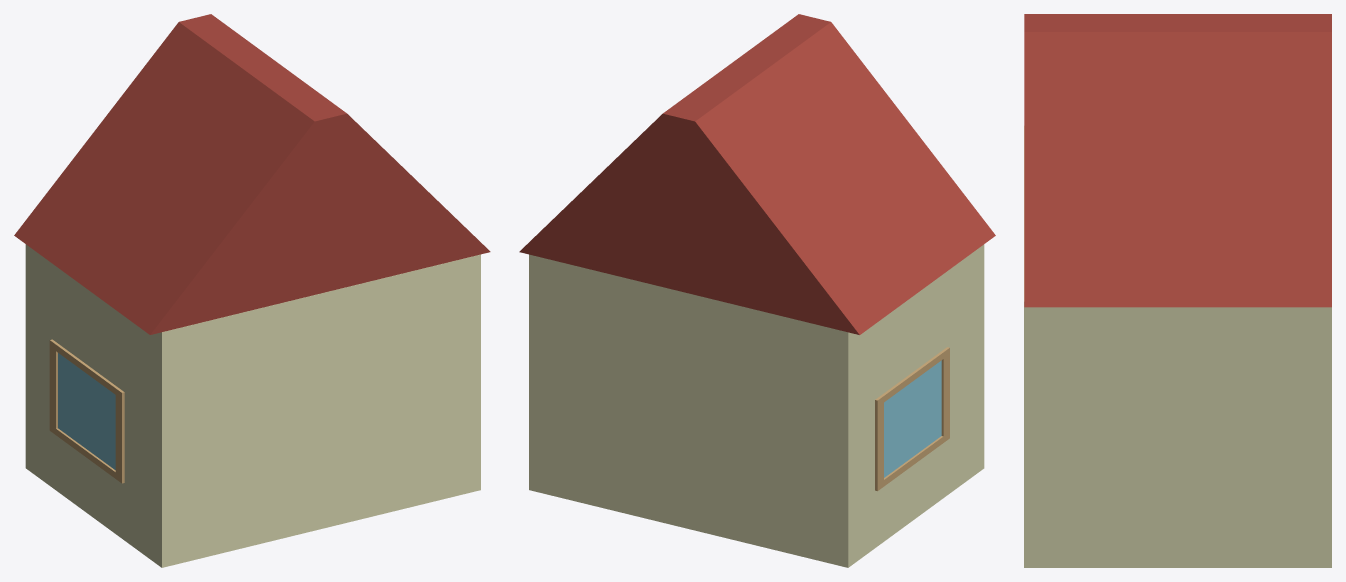
File: House3.fbx
The picture shows the model from 3 angles, left to right: view 1: azimuth 30°, elevation 25°; view 2: azimuth 150°, elevation 25°; view 3: azimuth 270°, elevation 25°; orthographic projection. The views are drawn at different scales.
Visible parts, largest first — view 1: Cube.005, Cube.006; view 2: Cube.005, Cube.006; view 3: Cube.006, Cube.005.
Part boxes in pixels (box(x1,y1,x2,y2)): Cube.005: box(25, 244, 480, 567); Cube.006: box(14, 14, 490, 334); Cube.005: box(529, 244, 984, 567); Cube.006: box(519, 14, 995, 334); Cube.006: box(1024, 14, 1331, 307); Cube.005: box(1024, 126, 1331, 567).
Size of the model in its own units: 377 by 432 by 261.
